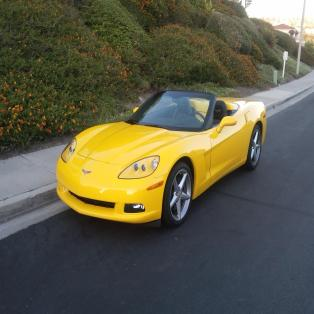Auto: (55, 90, 266, 229)
